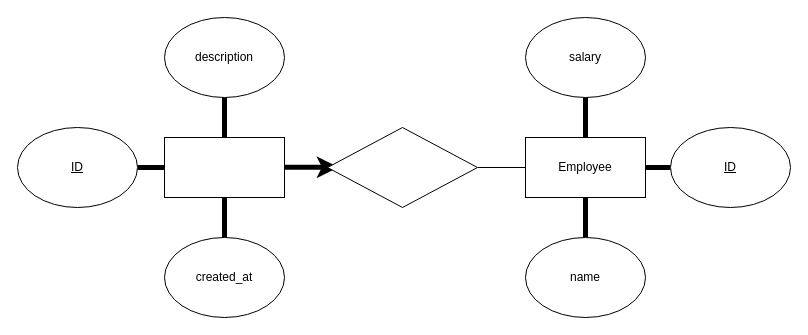
The diagram is 808 pixels wide and 335 high, and some of its shapes have lost their labels. Each missing label, with the box of its shape:
belongs to: (326, 126, 478, 208)
Log Entry: (164, 136, 284, 198)
